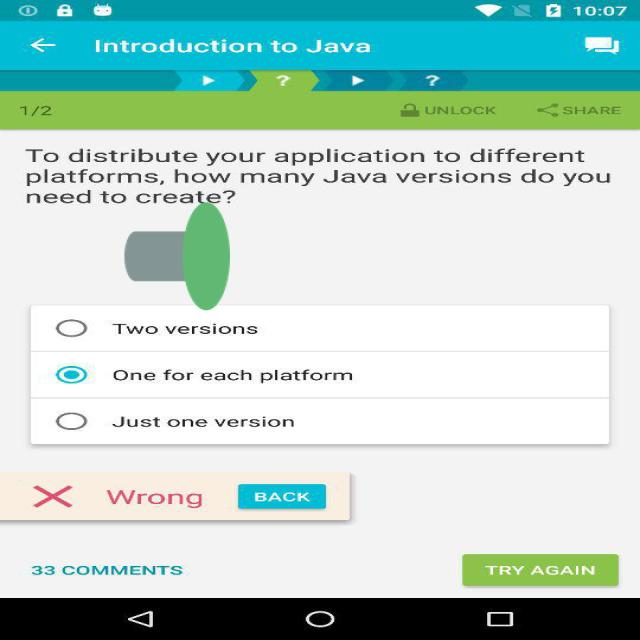social proof: (124, 136, 230, 377)
